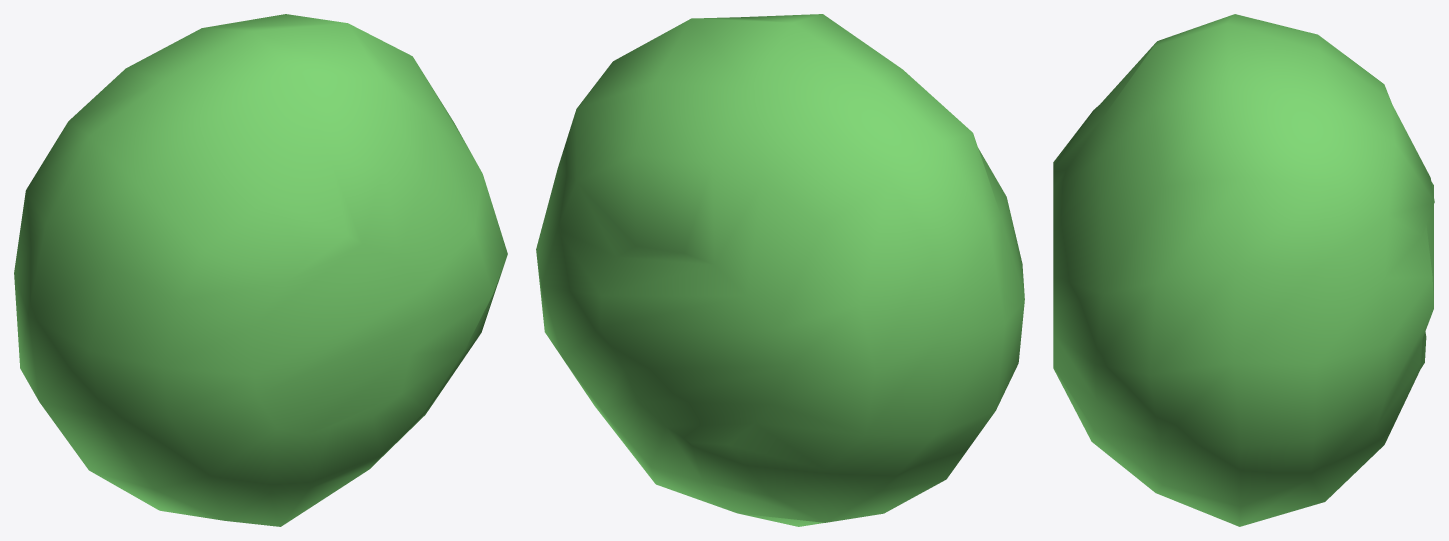
File: coral03a.fbx
3 views of the same model, side by side, from view 1: azimuth 30°, elevation 25°; view 2: azimuth 150°, elevation 25°; view 3: azimuth 270°, elevation 25° (orthographic). The views are drawn at different scales.
Parts seen in each view (by area): view 1: Coral03a; view 2: Coral03a; view 3: Coral03a.
Part boxes in pixels (<box>): Coral03a: <box>14,14,507,526</box>; Coral03a: <box>536,14,1024,526</box>; Coral03a: <box>1053,14,1434,526</box>.
Bounding box in the file's own units: 437 × 465 × 329.
